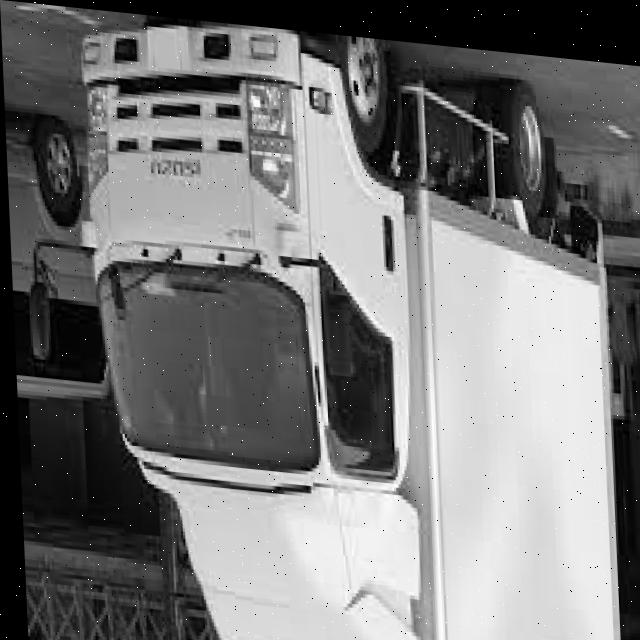truck: (60, 6, 454, 640)
